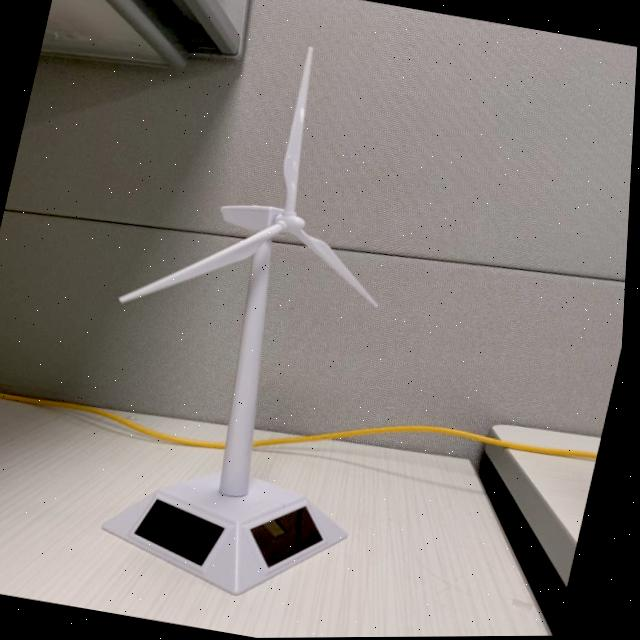solid-blade: (123, 223, 287, 301), (301, 231, 380, 307), (284, 47, 314, 214)
